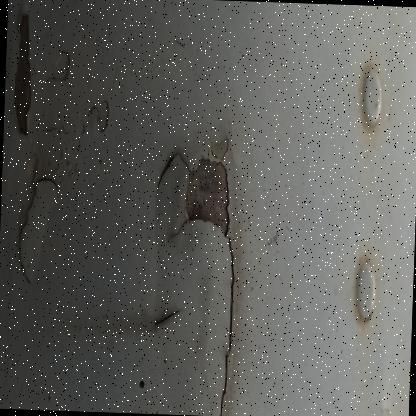Crack: (134, 80, 253, 415), (2, 0, 126, 165), (6, 146, 82, 324)
